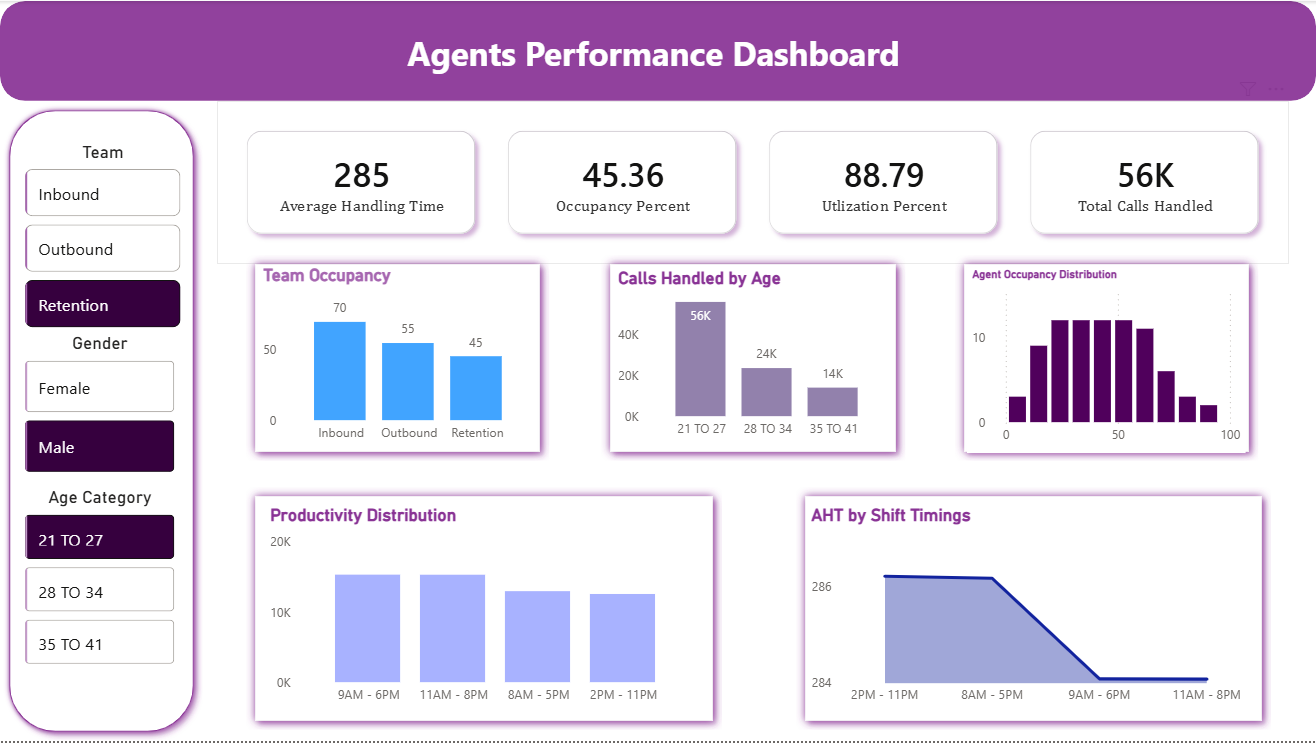

Layout of this report page (visuals, bound fields, positions):
{"tool":"powerbi","page":{"name":"Page 1","canvas":[1280,720],"ordinal":0},"visuals":[{"type":"cardVisual","fields":{"Data":["v_agent_productivity.Average Handling Time","v_agent_productivity.Average Occupancy","v_agent_productivity.Average Utlization","v_agent_productivity.Total Calls Handled"]},"box":[211.1,97.3,1042.7,158.5],"z":0},{"type":"shape","box":[0,0,1280,97.3],"z":1000},{"type":"textbox","box":[0,23.3,1280,55.4],"z":2000},{"type":"shape","box":[239.3,247.1,294.7,200.4],"z":3000},{"type":"shape","box":[584.6,247.1,295.7,200.4],"z":4000},{"type":"shape","box":[774.2,472.7,462,236.4],"z":5000},{"type":"shape","box":[0,97.3,197.4,622.5],"z":6000},{"type":"advancedSlicerVisual","fields":{"Values":["v_agent_productivity.team"]},"box":[19.5,129.4,161.5,193.6],"z":7000},{"type":"columnChart","title":" Calls Handled by Age","fields":{"Category":["v_agent_productivity.age_category"],"Y":["Sum(v_agent_productivity.calls_handled)"]},"box":[596.2,259.7,271.4,174.1],"z":8000},{"type":"shape","box":[928.9,247.1,294.7,200.4],"z":9000},{"type":"advancedSlicerVisual","title":"Gender","fields":{"Values":["v_agent_productivity.gender"]},"box":[19.5,322.9,155.6,140.1],"z":10000},{"type":"areaChart","title":"AHT by Shift Timings","fields":{"Category":["v_agent_productivity.shift_timings"],"Y":["v_agent_productivity.Average Handling Time"]},"box":[784,490.2,439.6,202.3],"z":11000},{"type":"clusteredColumnChart","title":"Agent Occupancy Distribution","fields":{"Category":["v_agent_productivity.occupancy (bins)"],"Y":["v_agent_productivity.Agent Count"]},"box":[940.5,259.7,271.4,179.9],"z":12000},{"type":"shape","box":[239.3,472.7,463,236.4],"z":13000},{"type":"clusteredColumnChart","title":"Productivity Distribution","fields":{"Y":["v_agent_productivity.Total Calls Handled"],"Category":["v_agent_productivity.shift_timings"]},"box":[257.8,490.2,420.2,202.3],"z":14000},{"type":"clusteredColumnChart","title":"Team Occupancy","fields":{"Category":["v_agent_productivity.team"],"Y":["v_agent_productivity.Occupancy Percent"]},"box":[250.9,256.8,271.4,180.9],"z":15000},{"type":"advancedSlicerVisual","title":"Age Category","fields":{"Values":["v_agent_productivity.age_category"]},"box":[19.5,472.7,155.6,179],"z":16000}]}

Visuals, with their boxes in screenshot pixels (x1, y1, x2, y2), scaled from the page's 1280x720 canvas onto the 1316x744 screenshot:
cardVisual - v_agent_productivity.Average Handling Time x v_agent_productivity.Average Occupancy: [x1=217, y1=101, x2=1289, y2=264]
shape: [x1=0, y1=0, x2=1315, y2=101]
textbox: [x1=0, y1=24, x2=1315, y2=81]
shape: [x1=246, y1=255, x2=549, y2=462]
shape: [x1=601, y1=255, x2=905, y2=462]
shape: [x1=796, y1=488, x2=1271, y2=733]
shape: [x1=0, y1=101, x2=203, y2=743]
advancedSlicerVisual - v_agent_productivity.team: [x1=20, y1=134, x2=186, y2=334]
" Calls Handled by Age" columnChart: [x1=613, y1=268, x2=892, y2=448]
shape: [x1=955, y1=255, x2=1258, y2=462]
"Gender" advancedSlicerVisual: [x1=20, y1=334, x2=180, y2=478]
"AHT by Shift Timings" areaChart: [x1=806, y1=507, x2=1258, y2=716]
"Agent Occupancy Distribution" clusteredColumnChart: [x1=967, y1=268, x2=1246, y2=454]
shape: [x1=246, y1=488, x2=722, y2=733]
"Productivity Distribution" clusteredColumnChart: [x1=265, y1=507, x2=697, y2=716]
"Team Occupancy" clusteredColumnChart: [x1=258, y1=265, x2=537, y2=452]
"Age Category" advancedSlicerVisual: [x1=20, y1=488, x2=180, y2=673]
